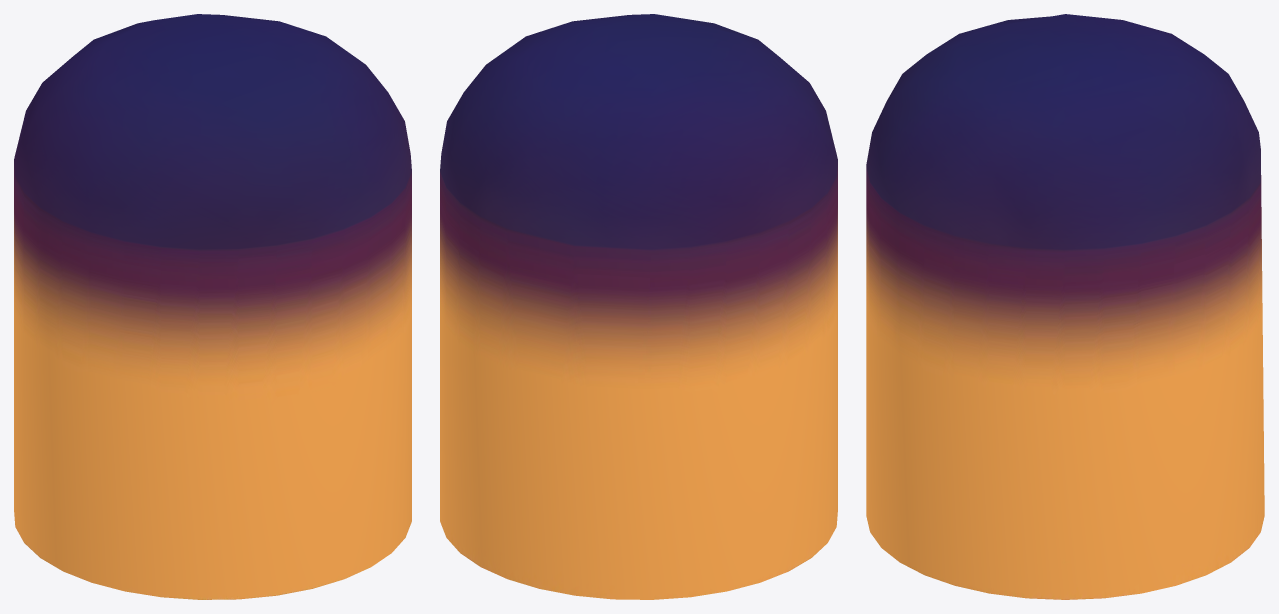
Rendered from museumd2-optimized.glb.
The picture shows the model from 3 angles, left to right: view 1: azimuth 30°, elevation 25°; view 2: azimuth 150°, elevation 25°; view 3: azimuth 270°, elevation 25°; orthographic projection.
Parts seen in each view (by area): view 1: Circle; view 2: Circle; view 3: Circle.
Boxes of the visible parts, bbox=[...] form: Circle: bbox=[14, 14, 411, 599]; Circle: bbox=[440, 14, 837, 599]; Circle: bbox=[866, 14, 1264, 599].
Bounding box in the file's own units: 5168 × 6547 × 5168.
46 materials, 33 textured.
